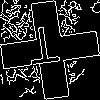T: (25, 25, 63, 75)
